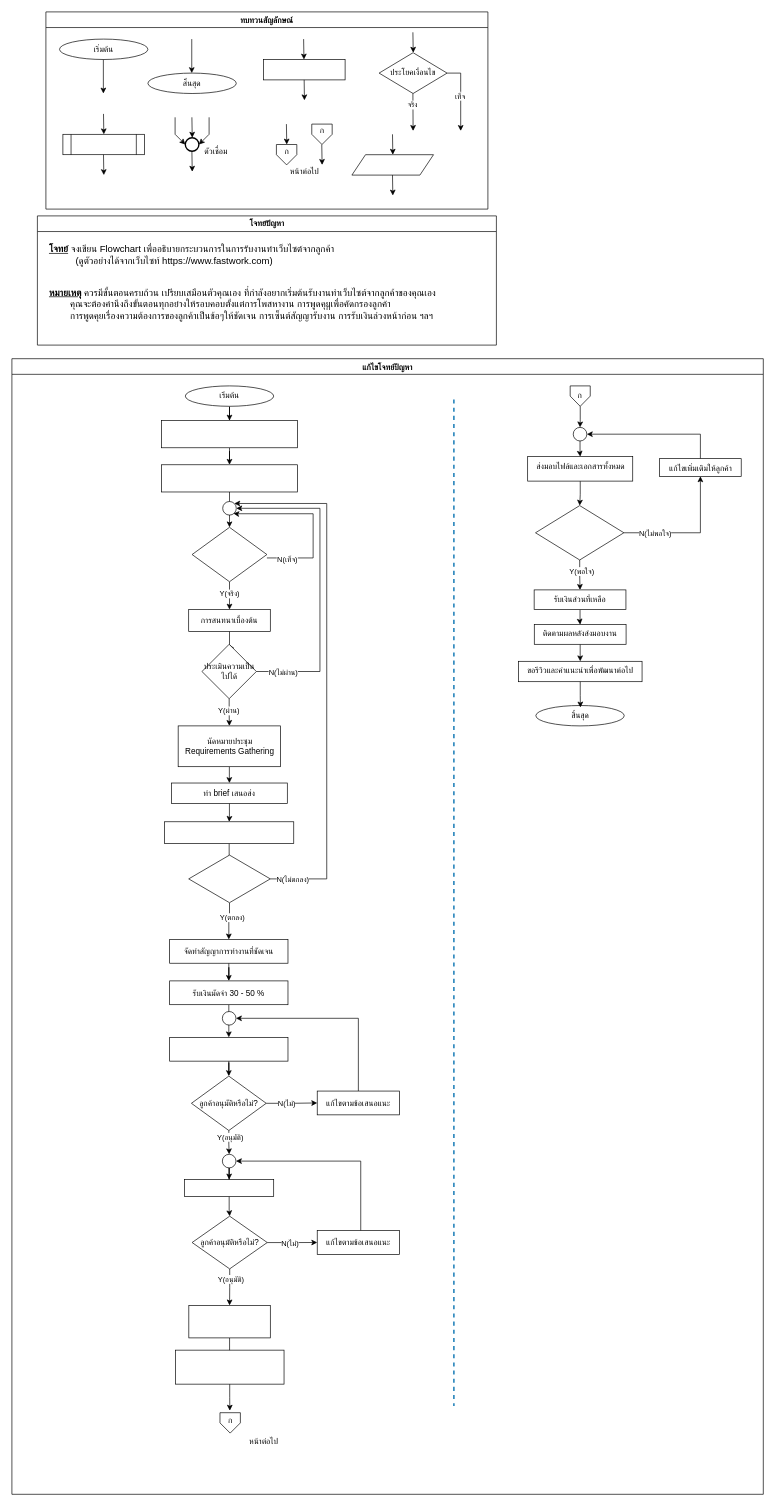
This 775x1506 diagram has some shape labels left out. The centre of each missing label's shape, as x and y in pixels:
final phase ทดสอบเว็บไซต์ ให้ครบทุกฟังก์ชัน: the point at 229,1321
กระบวนการ: the point at 304,69
คำนวณค่าใช้จ่ายและเสนอราคา: the point at 229,832
ดำเนินการ phase1: the point at 228,1049
ดำเนินการ phase2: the point at 229,1187
ฟังก์ชัน/โมดูล: the point at 103,144
ลูกค้าตกลงหรือไม่?: the point at 229,878
ลูกค้าติดต่อเข้ามา: the point at 229,554
ลูกค้าพอใจหรือไม่?: the point at 579,532
สร้างโปรไฟล์และพอร์ตโฟลิโอที่น่าเชื่อถือ: the point at 229,434
แสดงผล/รับค่า: the point at 392,164
โพสต์ประกาศหางานบน platform ต่างๆ: the point at 229,478
ให้คำแนะนำการใช้งาน: the point at 229,1366
